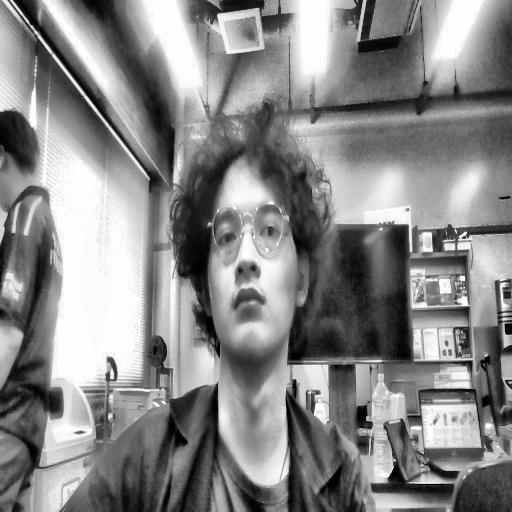Daifuku: (174, 112, 320, 357)
Not Daifuku: (0, 103, 44, 203)
